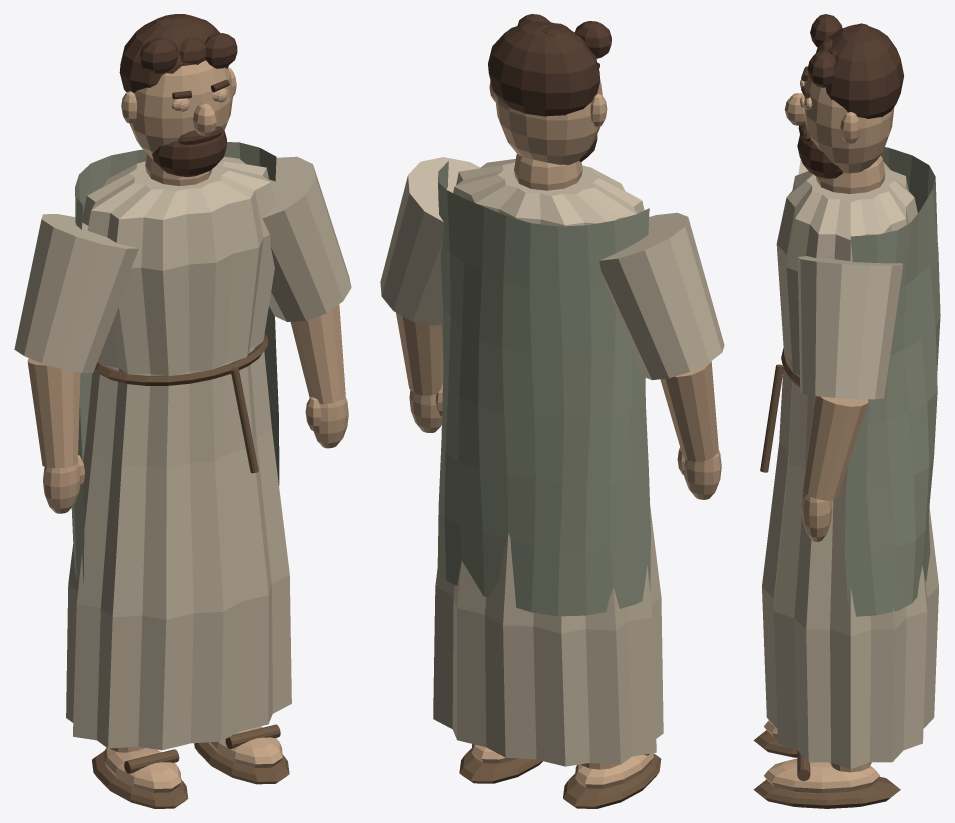
Rendered from listener-traveller.glb.
3 views of the same model, side by side, from view 1: azimuth 30°, elevation 25°; view 2: azimuth 150°, elevation 25°; view 3: azimuth 270°, elevation 25° (orthographic). The views are drawn at different scales.
Parts seen in each view (by area): view 1: listener-traveller_torso_mesh, listener-traveller_arm_left_mesh, listener-traveller_head_mesh, listener-traveller_arm_right_mesh, listener-traveller_forearm_left_mesh, listener-traveller_forearm_right_mesh, listener-traveller_foot_left_mesh, listener-traveller_foot_right_mesh, listener-traveller_jaw_mesh; view 2: listener-traveller_torso_mesh, listener-traveller_head_mesh, listener-traveller_arm_left_mesh, listener-traveller_arm_right_mesh, listener-traveller_forearm_left_mesh, listener-traveller_forearm_right_mesh, listener-traveller_foot_left_mesh, listener-traveller_foot_right_mesh; view 3: listener-traveller_torso_mesh, listener-traveller_arm_right_mesh, listener-traveller_head_mesh, listener-traveller_forearm_right_mesh, listener-traveller_foot_right_mesh, listener-traveller_jaw_mesh, listener-traveller_foot_left_mesh.
Part boxes in pixels (x1=…): listener-traveller_torso_mesh: x1=66, y1=142, x2=291, y2=750; listener-traveller_arm_left_mesh: x1=14, y1=214, x2=138, y2=372; listener-traveller_head_mesh: x1=119, y1=14, x2=237, y2=158; listener-traveller_arm_right_mesh: x1=262, y1=156, x2=351, y2=321; listener-traveller_forearm_left_mesh: x1=27, y1=358, x2=85, y2=513; listener-traveller_forearm_right_mesh: x1=290, y1=304, x2=348, y2=448; listener-traveller_foot_left_mesh: x1=92, y1=747, x2=188, y2=808; listener-traveller_foot_right_mesh: x1=194, y1=724, x2=289, y2=784; listener-traveller_jaw_mesh: x1=152, y1=130, x2=226, y2=176; listener-traveller_torso_mesh: x1=433, y1=154, x2=663, y2=766; listener-traveller_head_mesh: x1=488, y1=14, x2=611, y2=164; listener-traveller_arm_left_mesh: x1=599, y1=212, x2=724, y2=380; listener-traveller_arm_right_mesh: x1=380, y1=157, x2=479, y2=325; listener-traveller_forearm_left_mesh: x1=660, y1=361, x2=721, y2=499; listener-traveller_forearm_right_mesh: x1=396, y1=312, x2=443, y2=432; listener-traveller_foot_left_mesh: x1=563, y1=753, x2=661, y2=808; listener-traveller_foot_right_mesh: x1=459, y1=744, x2=542, y2=783; listener-traveller_torso_mesh: x1=760, y1=147, x2=940, y2=769; listener-traveller_arm_right_mesh: x1=797, y1=256, x2=903, y2=399; listener-traveller_head_mesh: x1=784, y1=14, x2=903, y2=173; listener-traveller_forearm_right_mesh: x1=801, y1=396, x2=868, y2=541; listener-traveller_foot_right_mesh: x1=753, y1=751, x2=900, y2=808; listener-traveller_jaw_mesh: x1=797, y1=135, x2=842, y2=178; listener-traveller_foot_left_mesh: x1=753, y1=720, x2=797, y2=757.
Size of the model in its own units: 0.8023 by 1.77 by 0.4009.
